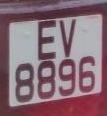6: (76, 51, 98, 97)
8: (11, 59, 37, 105), (34, 59, 59, 102)
9: (56, 55, 80, 99)
E: (35, 18, 60, 62)
V: (57, 15, 79, 60)
